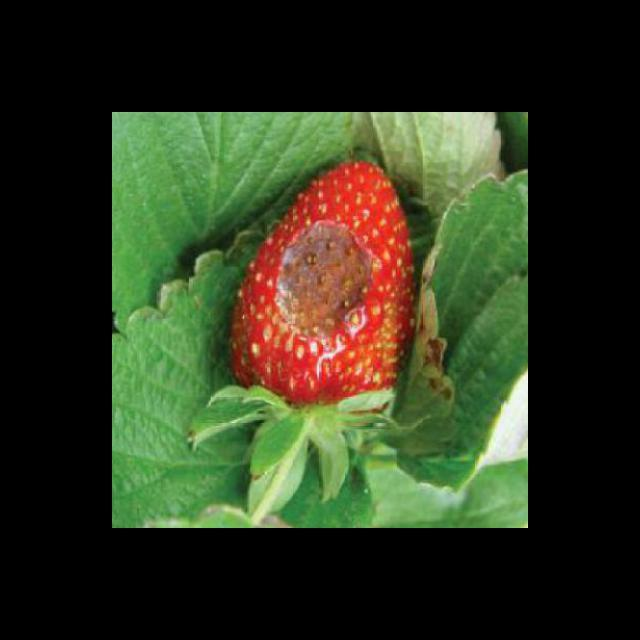Anthracnose Fruit Rot: (270, 219, 381, 345)
